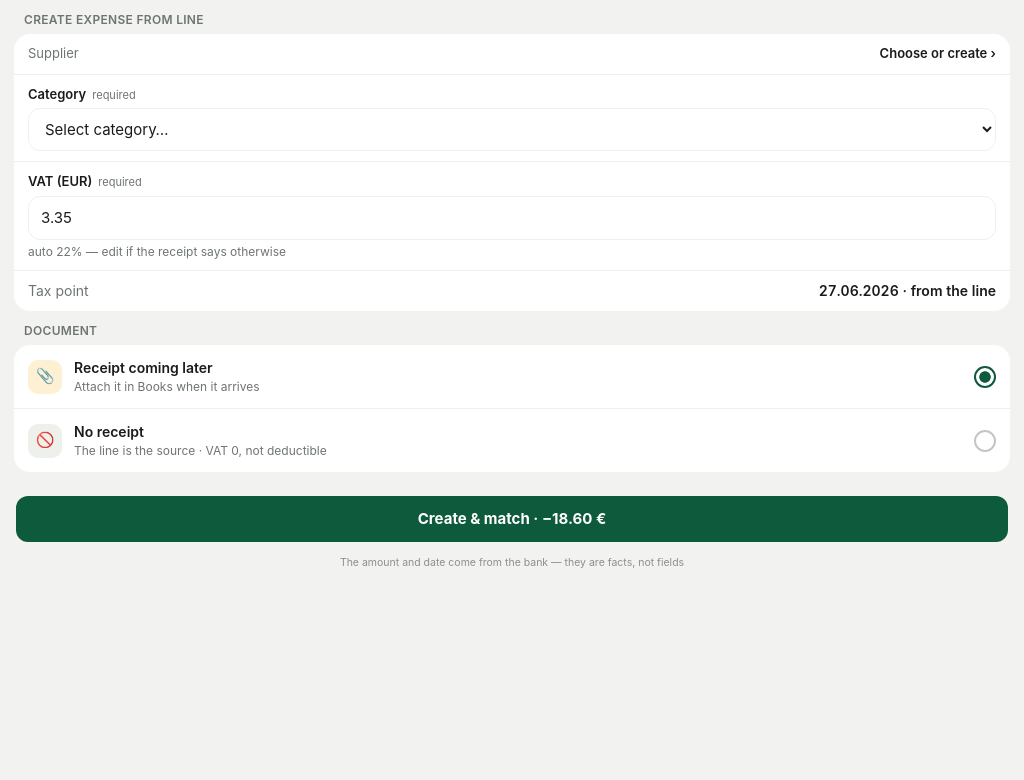
Test: TxCreateExpense › a refused create maps the server's field error; input kept, no stage landed (#265)
Select "Meals" in the dropdown labelled "Category" at point(512, 130), box [28, 108, 996, 151]
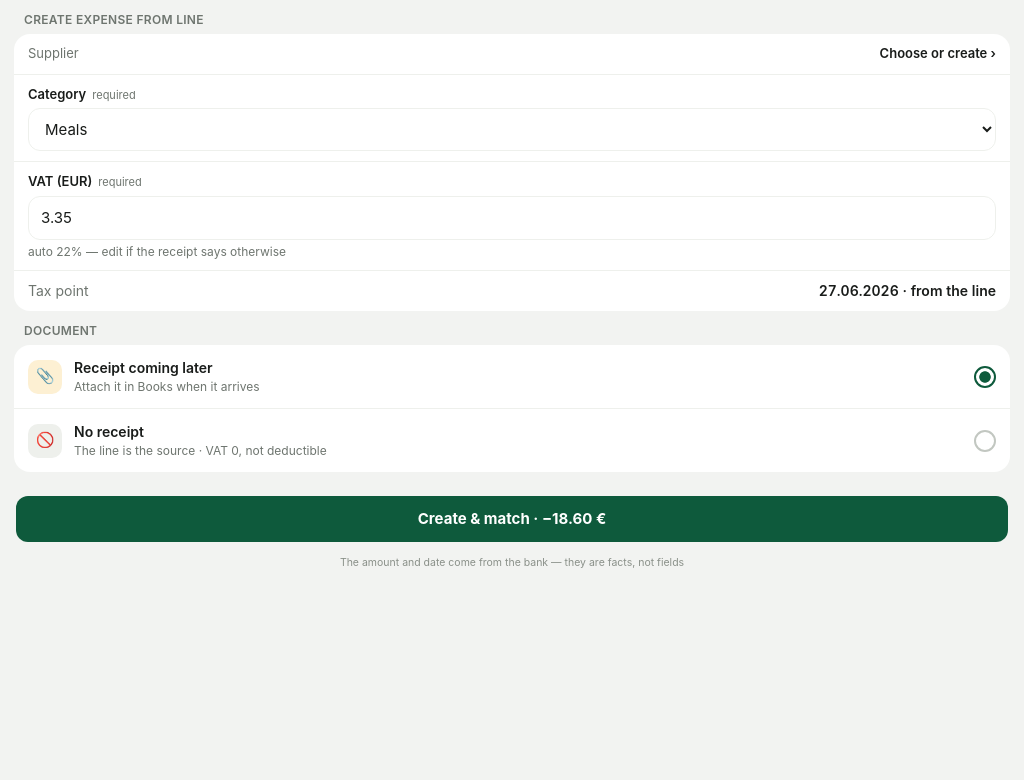
Click the button "Create & match · −18.60 €".
click(512, 519)  # box [16, 496, 1008, 542]
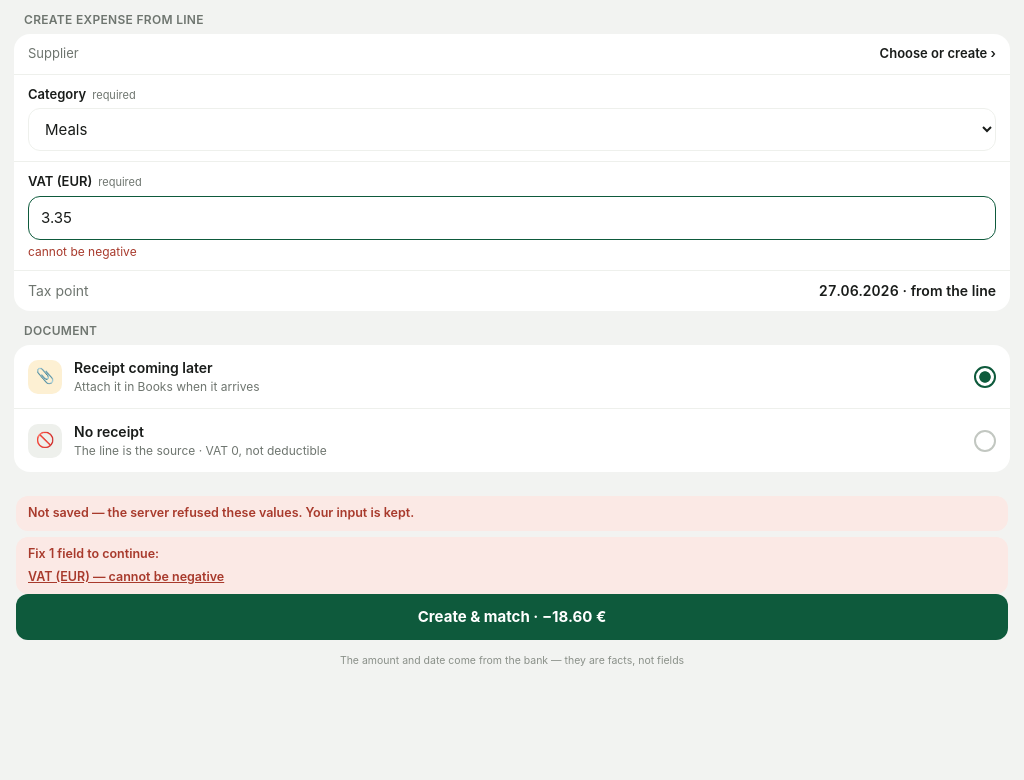
expect the field labelled "VAT (EUR)" holds "3.35": met, box [28, 196, 996, 240]
expect the text "Not saved — the server refused these values" is shown: met, box [28, 505, 414, 520]
